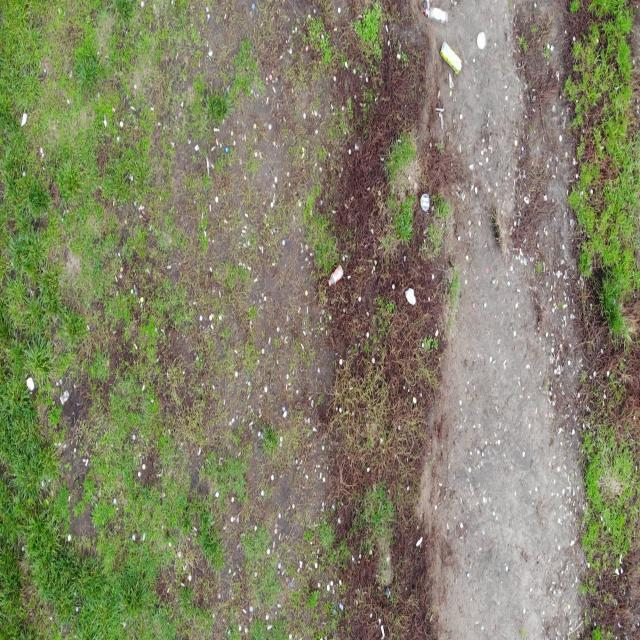rubbish: (440, 39, 463, 78), (328, 261, 344, 288), (424, 8, 449, 25), (404, 285, 417, 304), (477, 31, 485, 51), (421, 193, 430, 210)
